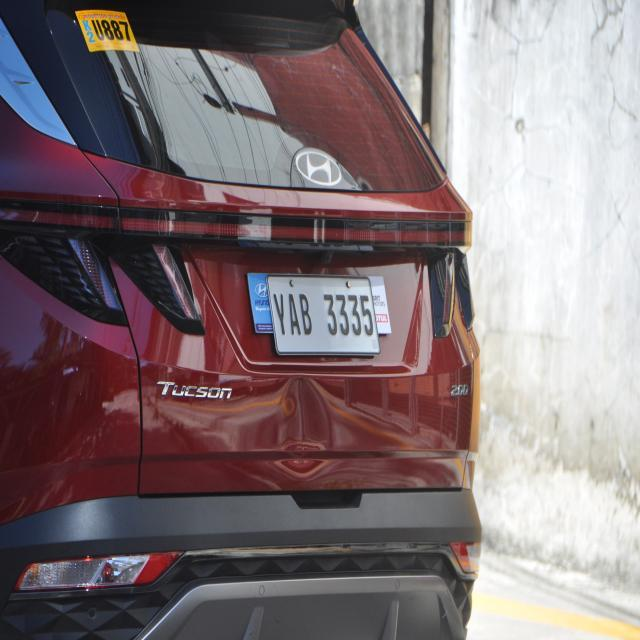LicensePlate: (252, 264, 390, 369)
